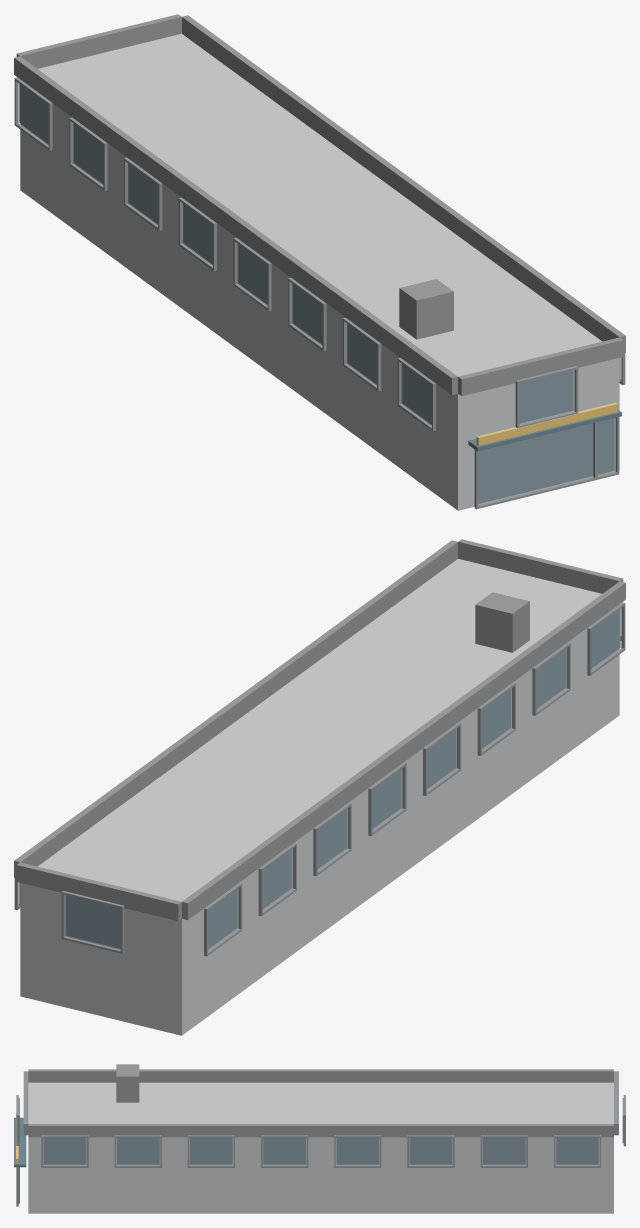
The model's file is commercial_1x4_a.glb.
3 views of the same model, one above another, from view 1: azimuth 30°, elevation 25°; view 2: azimuth 150°, elevation 25°; view 3: azimuth 270°, elevation 25° (orthographic). The views are drawn at different scales.
Parts seen in each view (by area): view 1: commercial_1x4_a_0; view 2: commercial_1x4_a_0; view 3: commercial_1x4_a_0.
Part boxes in pixels (x1,y1,x2,y2): commercial_1x4_a_0: [14, 14, 625, 510]; commercial_1x4_a_0: [14, 539, 625, 1035]; commercial_1x4_a_0: [14, 1064, 625, 1213].
Bounding box in the file's own units: 7.74 × 6 × 31.87.
